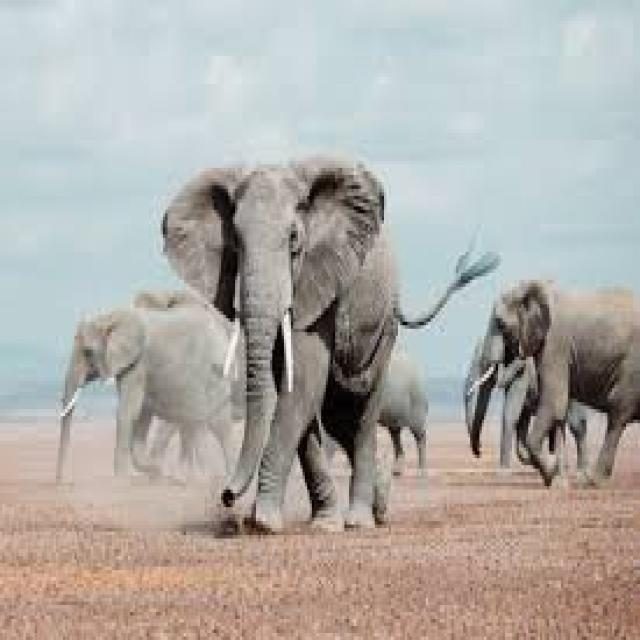Elephant: (158, 154, 501, 531), (466, 276, 638, 486)
